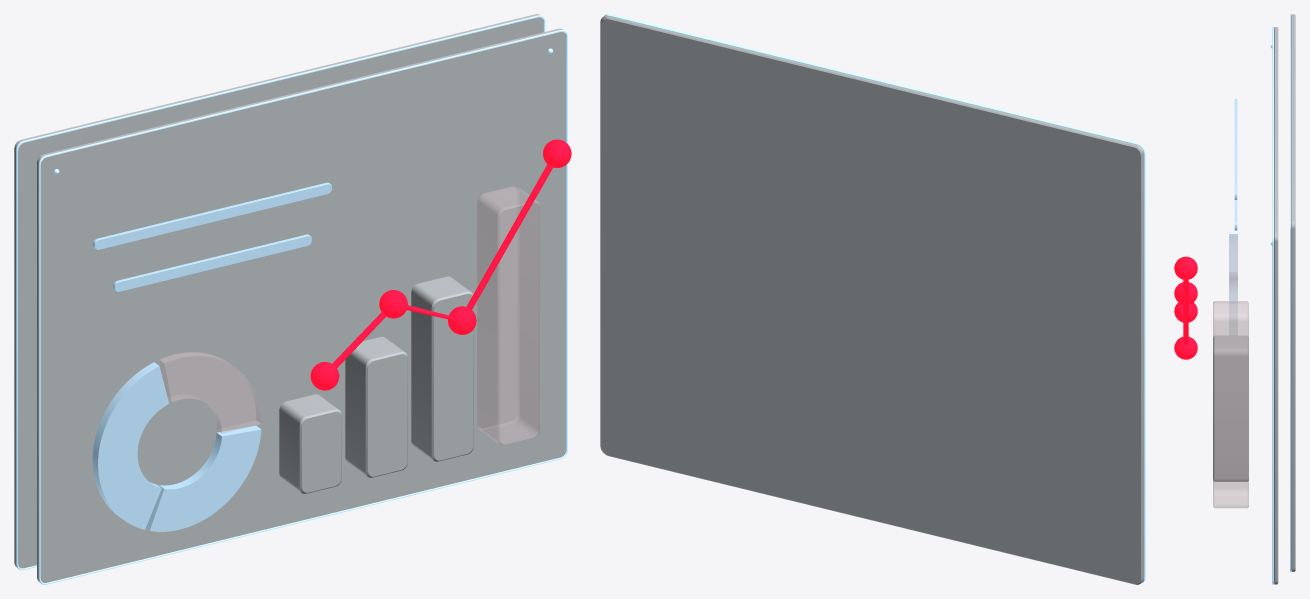
The model's file is 06-management-analytics.glb.
3 views of the same model, side by side, from view 1: azimuth 30°, elevation 25°; view 2: azimuth 150°, elevation 25°; view 3: azimuth 270°, elevation 25° (orthographic). The views are drawn at different scales.
Parts seen in each view (by area): view 1: BC thin clear technical glass, BC subtle ruby technical glass, BC etched pale glass, BC cool glass edge, BC ruby signal edge; view 2: BC thin clear technical glass, BC cool glass edge; view 3: BC thin clear technical glass, BC subtle ruby technical glass, BC cool glass edge, BC ruby signal edge, BC etched pale glass.
Part boxes in pixels (x1,y1,x2,y2): BC thin clear technical glass: [14, 14, 565, 582]; BC subtle ruby technical glass: [159, 185, 539, 445]; BC etched pale glass: [92, 182, 331, 531]; BC cool glass edge: [16, 15, 567, 584]; BC ruby signal edge: [310, 139, 571, 390]; BC thin clear technical glass: [600, 15, 1143, 584]; BC cool glass edge: [604, 14, 1145, 582]; BC thin clear technical glass: [1213, 14, 1295, 584]; BC subtle ruby technical glass: [1213, 236, 1248, 508]; BC cool glass edge: [1270, 14, 1291, 584]; BC ruby signal edge: [1174, 256, 1197, 359]; BC etched pale glass: [1229, 99, 1237, 335].
Bounding box in the file's own units: 2.05 × 1.59 × 0.486.
